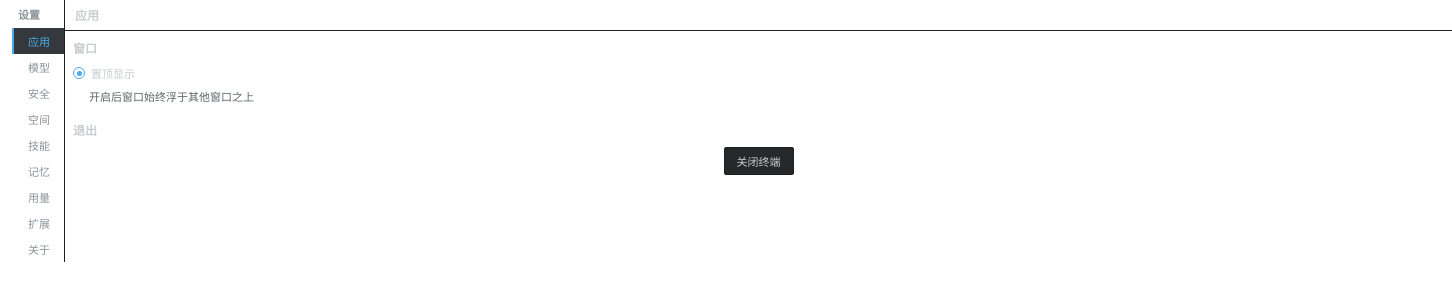
Scenario: SettingsPanel · 空间页（路径只读 + 目录选择 + 目录结构树） › 恢复默认后路径行显示默认路径（不是改前的旧值）
Click the tab "空间" at [38, 119], box left=12, top=106, right=64, bottom=132
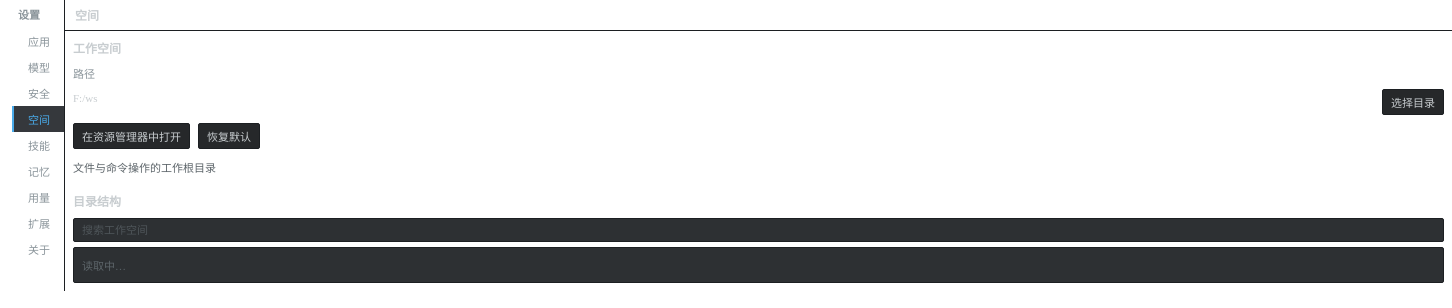
Expected: the text "F:/ws" is shown, left=73, top=92, right=98, bottom=104
Click the button "恢复默认" at [229, 136], box left=198, top=123, right=260, bottom=149
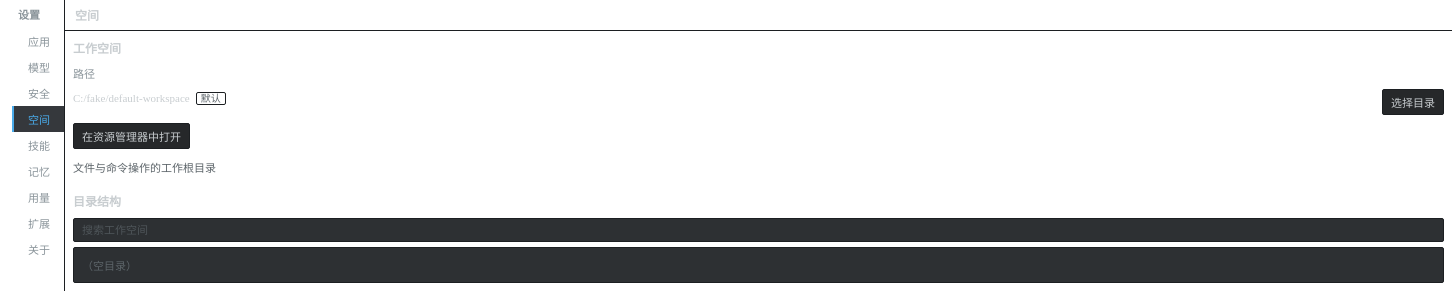
Expected: the text "默认" is shown, left=196, top=92, right=226, bottom=105
Expected: the text "C:/fake/default-workspace" is shown, left=73, top=92, right=190, bottom=104
Expected: the text "F:/ws" is gone
